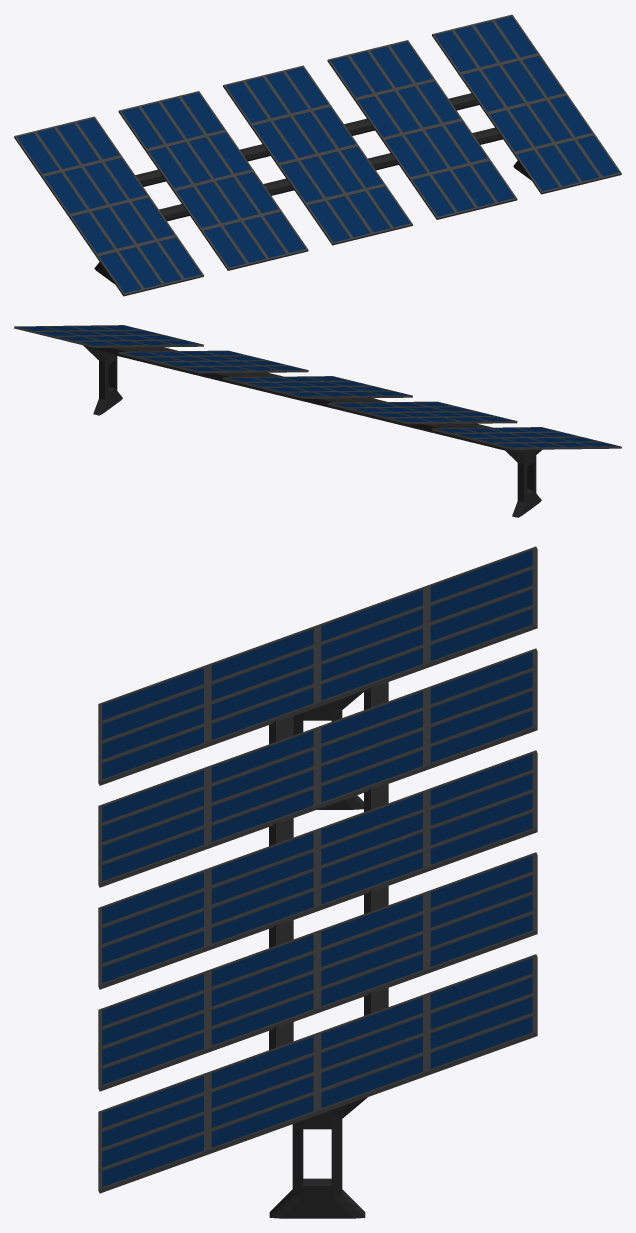
The model's file is solarPanel.glb.
3 renders of one model, top to bottom at view 1: azimuth 30°, elevation 25°; view 2: azimuth 150°, elevation 25°; view 3: azimuth 270°, elevation 25°, orthographic. The views are drawn at different scales.
Visible parts, largest first — view 1: Cube, Cube.001; view 2: Cube, Cube.001; view 3: Cube, Cube.001.
Boxes of the visible parts, x1,y1,x2,y2 form: Cube: [14, 14, 621, 296]; Cube.001: [94, 93, 531, 283]; Cube: [14, 325, 621, 449]; Cube.001: [83, 345, 542, 517]; Cube: [98, 546, 537, 1193]; Cube.001: [269, 682, 388, 1218].
Bounding box in the file's own units: 26.77 × 5.67 × 10.23.
